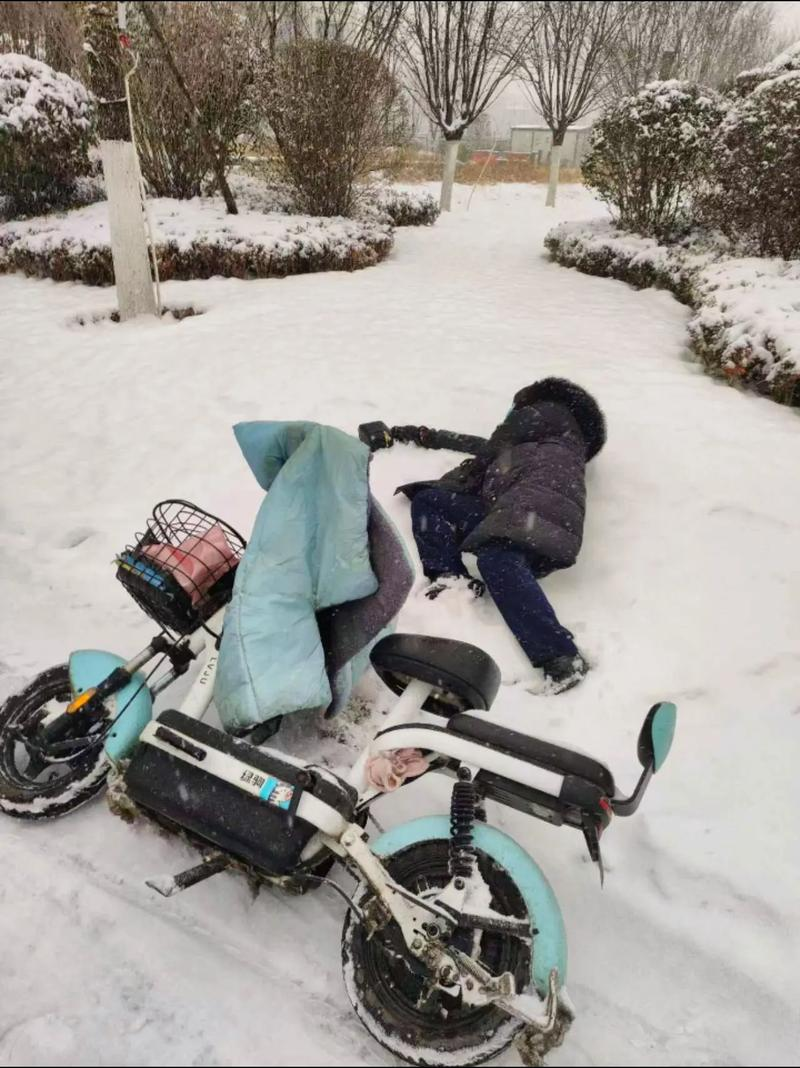down: (342, 342, 649, 710)
